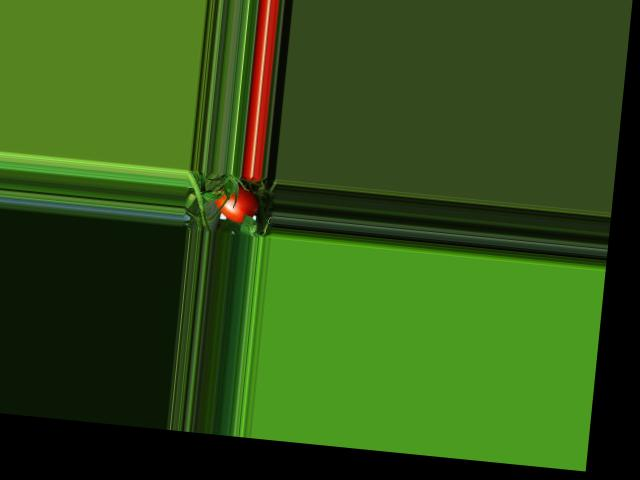tomato: (214, 183, 260, 224)
